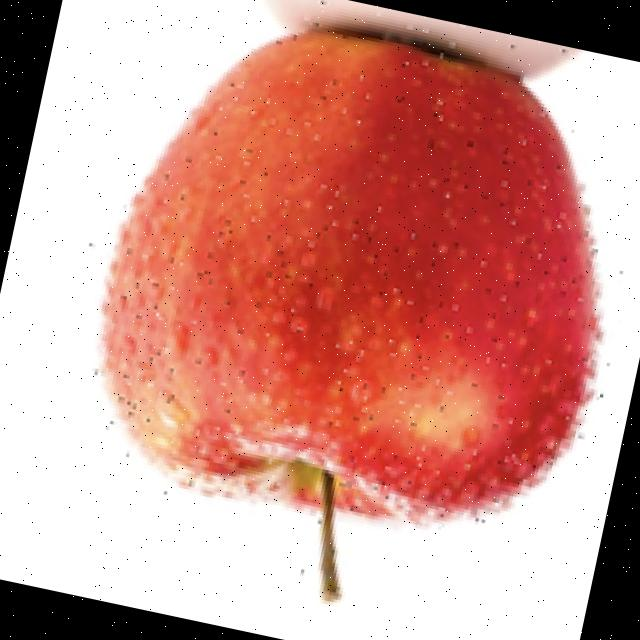apple: (90, 0, 609, 540)
